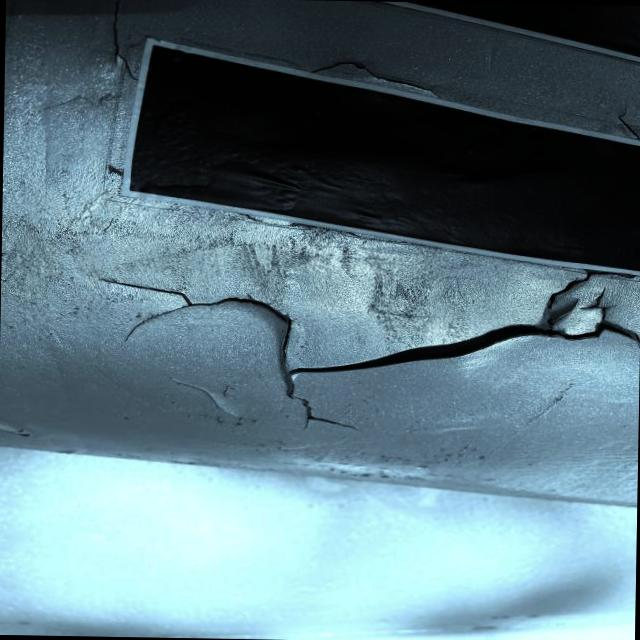crack: (262, 295, 625, 437), (90, 275, 266, 348), (155, 376, 257, 420)
